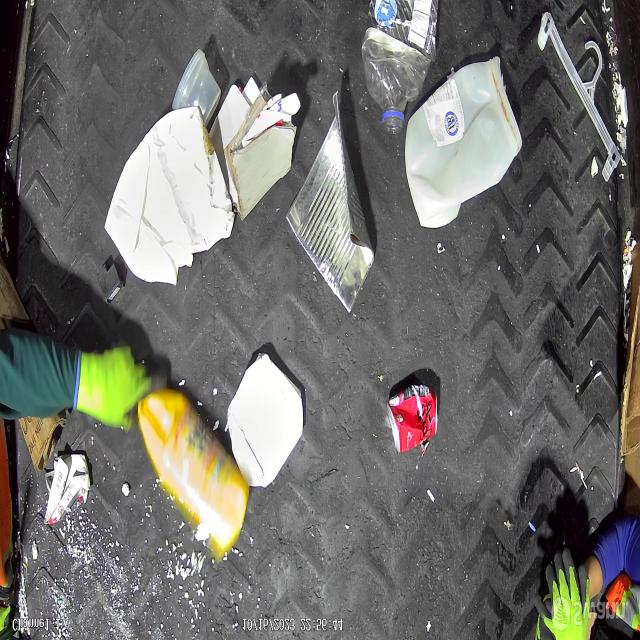can: (286, 83, 378, 315), (387, 384, 438, 455)
milk_jug: (404, 55, 522, 228)
non_white_jug: (138, 393, 248, 556)
plastic_bottle: (362, 0, 438, 134)
